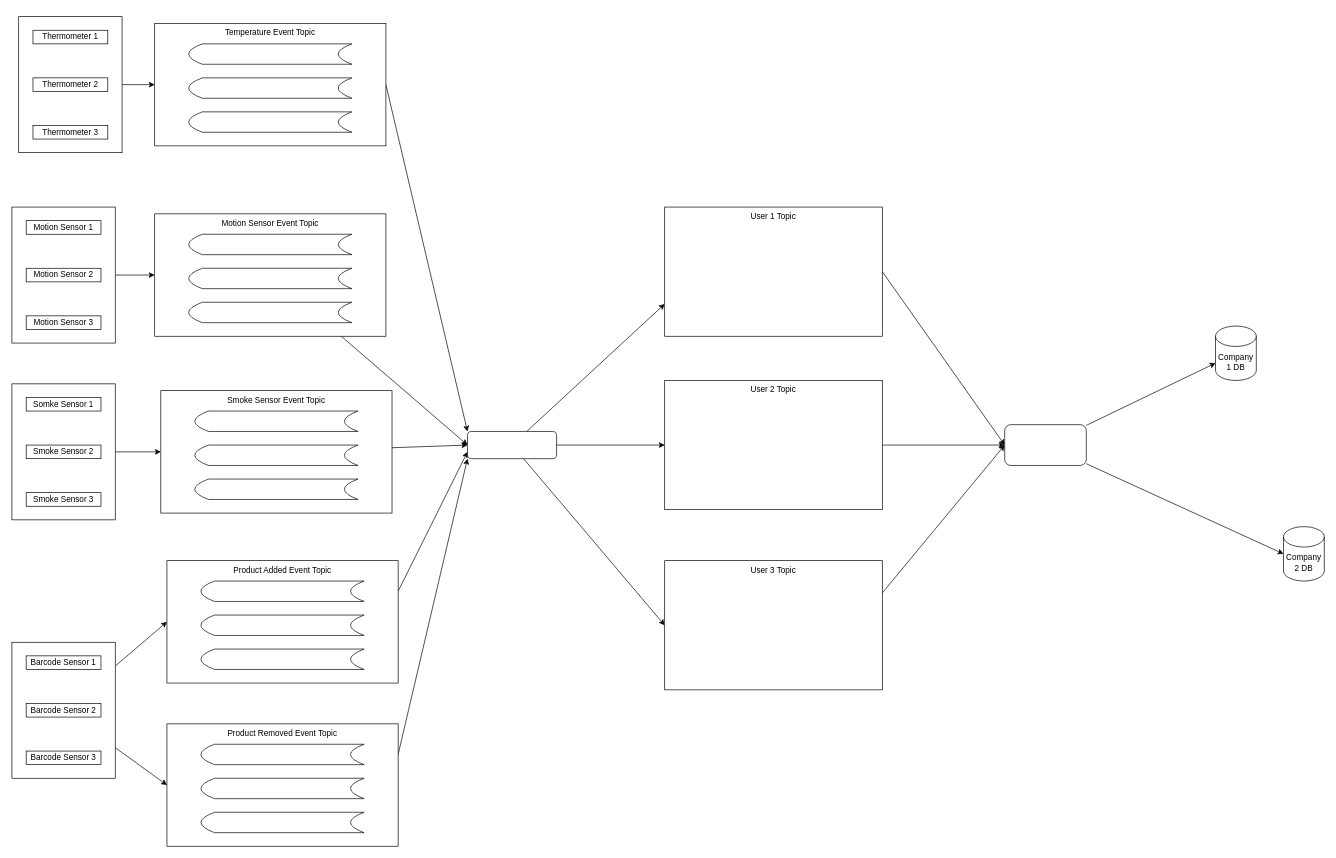
Some shapes in this 1336 by 858 pixel diagram are drawn without their labels. The box of each missing label's shape, as (x1, y1, x2, y2) in pixels:
Mediation Service: (467, 431, 557, 459)
Mediation Service 2: (1004, 424, 1086, 465)
